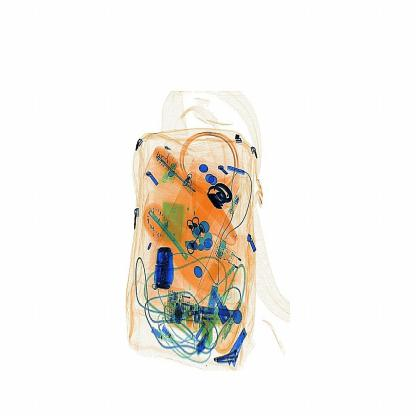scissors: (147, 244, 184, 294)
